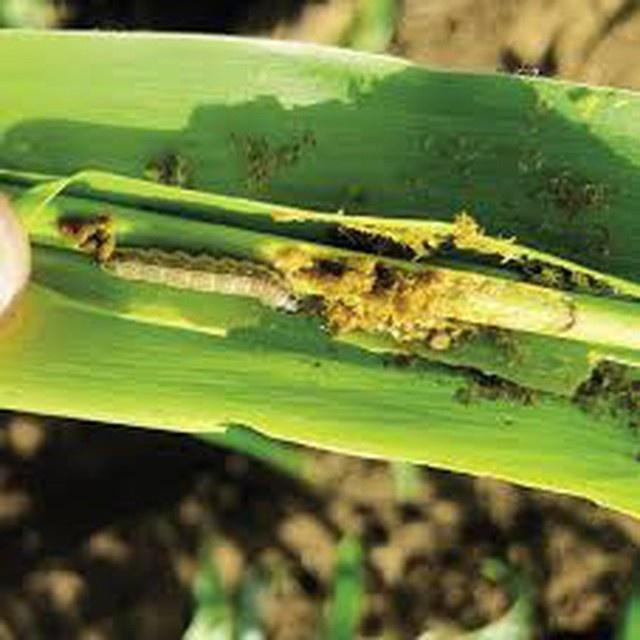worm: (92, 223, 300, 331)
